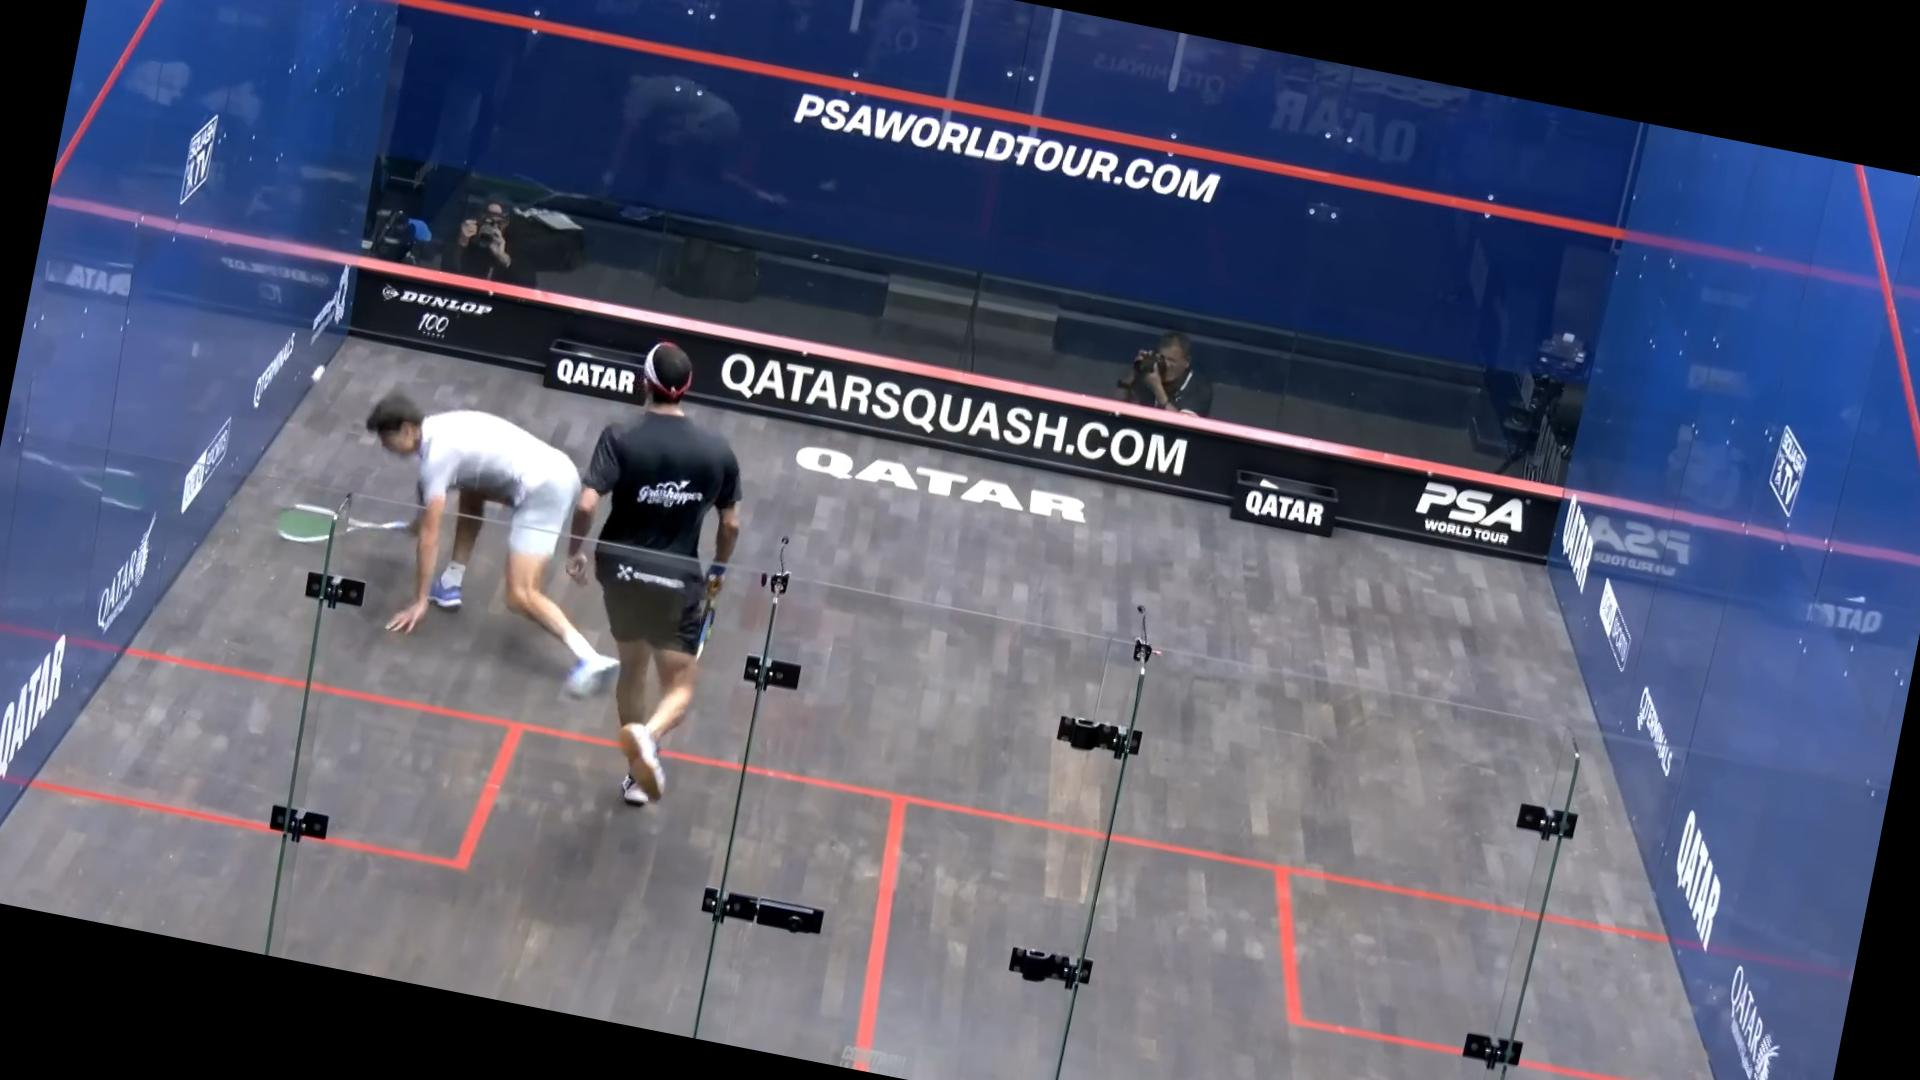Racket: (272, 485, 426, 576)
